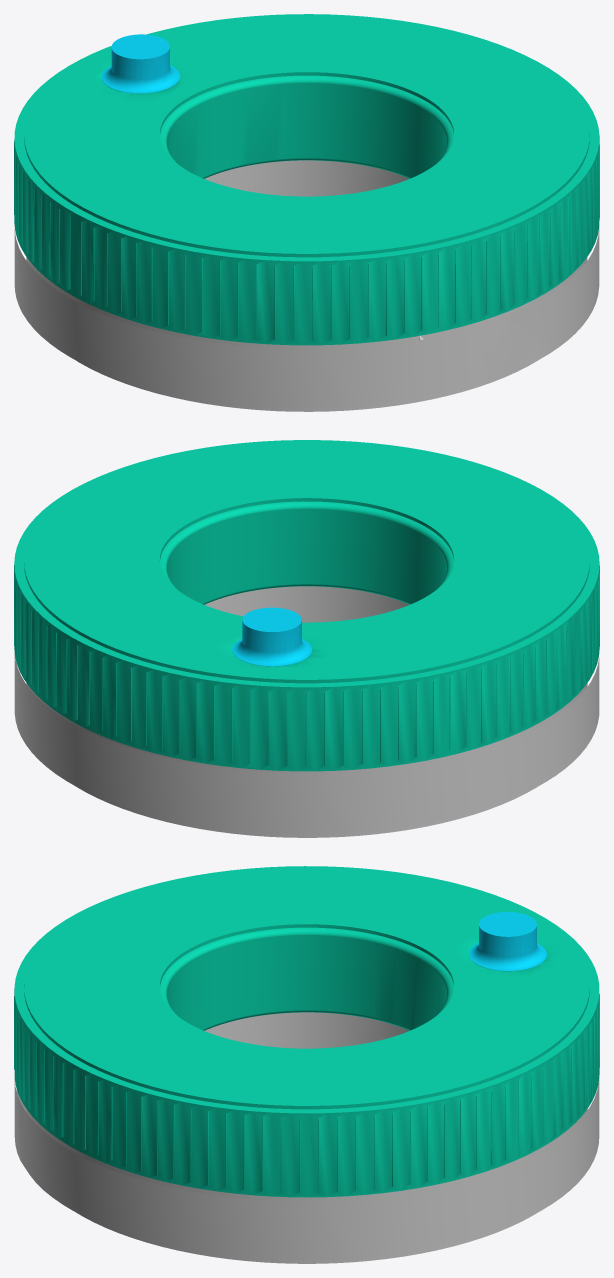
Rendered from chrome-spool.glb.
3 renders of one model, top to bottom at view 1: azimuth 30°, elevation 25°; view 2: azimuth 150°, elevation 25°; view 3: azimuth 270°, elevation 25°, orthographic.
Parts seen in each view (by area): view 1: ctrl_r_2; view 2: ctrl_r_2; view 3: ctrl_r_2.
Boxes of the visible parts, box(x1,y1,x2,y2) form: ctrl_r_2: box(14, 14, 599, 411); ctrl_r_2: box(14, 440, 599, 837); ctrl_r_2: box(14, 866, 599, 1263).
Size of the model in its own units: 0.833 by 0.2964 by 0.8332.
